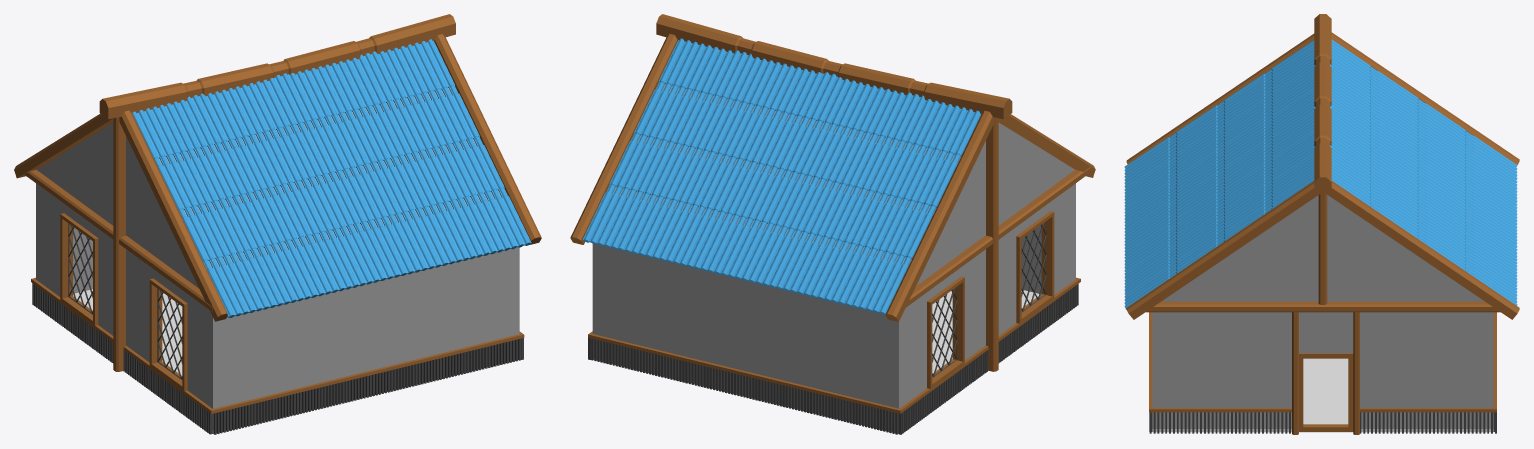
File: japán1.fbx
3 views of the same model, side by side, from view 1: azimuth 30°, elevation 25°; view 2: azimuth 150°, elevation 25°; view 3: azimuth 270°, elevation 25° (orthographic). The views are drawn at different scales.
Parts seen in each view (by area): view 1: Circle.001, wall, roof, Cube.004, Cube, wood.003, wood.006, wood.001, wood.005, win.001, win, Cube.005 (+6 smaller); view 2: Circle, wall, roof, Cube.003, Cube, wood.002, wood.006, wood, wood.005, win.001, Cube.001, win (+6 smaller); view 3: wall, Circle.001, Circle, roof, wood.004, floor, wood, wood.001, Cube, Cube.012, Cube.011, doorframe (+9 smaller).
Boxes of the visible parts, x1,y1,x2,y2 form: Circle.001: (132, 39, 531, 317); wall: (36, 183, 519, 430); roof: (37, 88, 501, 288); Cube.004: (213, 338, 520, 434); Cube: (99, 14, 455, 119); wood.003: (119, 110, 227, 321); wood.006: (113, 117, 125, 371); wood.001: (434, 34, 541, 244); wood.005: (24, 169, 212, 312); win.001: (149, 278, 187, 391); win: (60, 213, 98, 325); Cube.005: (123, 350, 212, 434); Circle: (583, 38, 981, 314); wall: (592, 183, 1075, 408); roof: (612, 84, 1074, 285); Cube.003: (591, 338, 898, 434); Cube: (656, 14, 1012, 119); wood.002: (885, 110, 995, 321); wood.006: (986, 117, 998, 371); wood: (570, 33, 677, 244); wood.005: (906, 167, 1090, 307); win.001: (1016, 211, 1054, 323); Cube.001: (898, 350, 988, 434); win: (927, 276, 964, 388); wall: (1152, 312, 1493, 428); Circle.001: (1124, 40, 1315, 309); Circle: (1330, 39, 1517, 305); roof: (1161, 195, 1484, 301); wood.004: (1146, 301, 1500, 312); floor: (1152, 358, 1493, 432); wood: (1325, 181, 1519, 319); wood.001: (1126, 181, 1320, 319); Cube: (1314, 14, 1331, 192); Cube.012: (1149, 412, 1290, 433); Cube.011: (1360, 412, 1496, 433); doorframe: (1299, 353, 1353, 431).
Bounding box in the file's own units: 2266 × 1709 × 2314.
